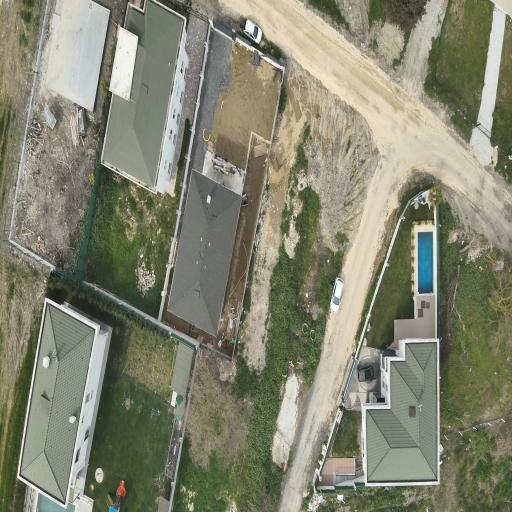car: (244, 19, 262, 43), (331, 278, 343, 311), (358, 365, 374, 382)
